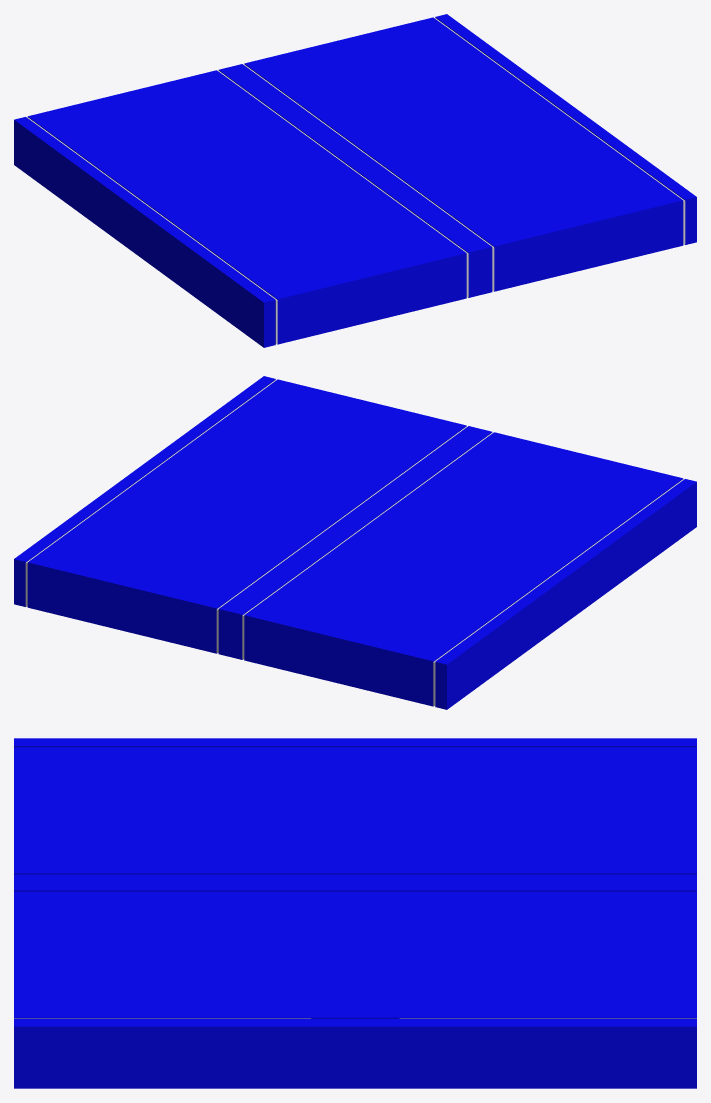
The model's file is FloorV2_2x2Merged.fbx.
3 renders of one model, top to bottom at view 1: azimuth 30°, elevation 25°; view 2: azimuth 150°, elevation 25°; view 3: azimuth 270°, elevation 25°, orthographic. The views are drawn at different scales.
Parts seen in each view (by area): view 1: FloorV2_2x2_Combined; view 2: FloorV2_2x2_Combined; view 3: FloorV2_2x2_Combined.
Part boxes in pixels (<box>): FloorV2_2x2_Combined: <box>14,14,696,347</box>; FloorV2_2x2_Combined: <box>14,376,696,709</box>; FloorV2_2x2_Combined: <box>14,738,696,1088</box>.
Bounding box in the file's own units: 1000 × 100 × 1000.
